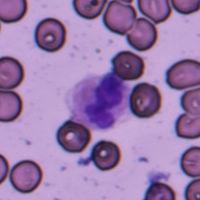N: (66, 70, 130, 131)
